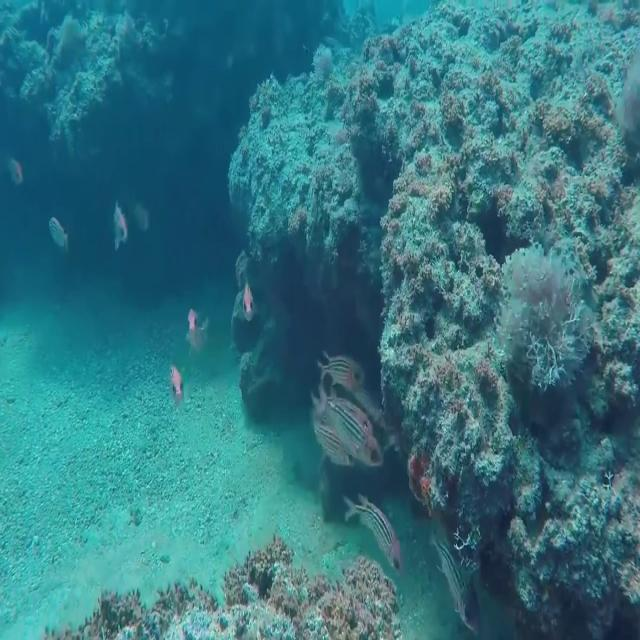Asker Baligi: (339, 481, 409, 587), (320, 394, 386, 472), (234, 282, 269, 329), (166, 363, 188, 400)
